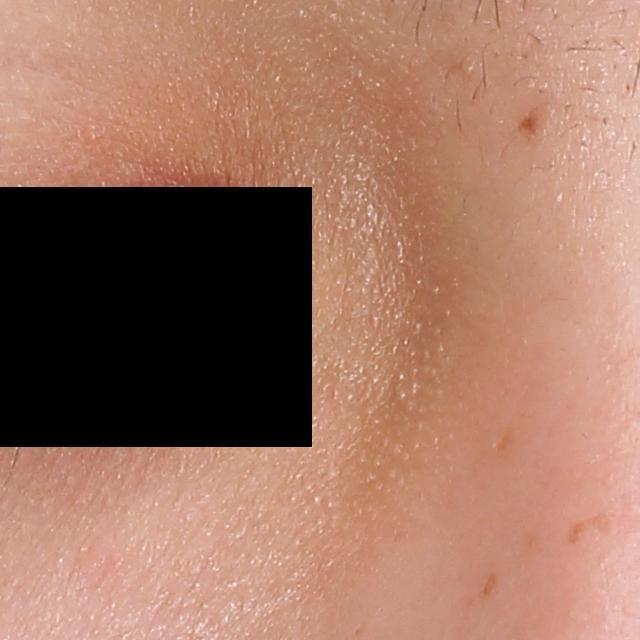comedo: (456, 57, 479, 78)
melasma: (565, 512, 614, 547), (479, 570, 497, 600)
